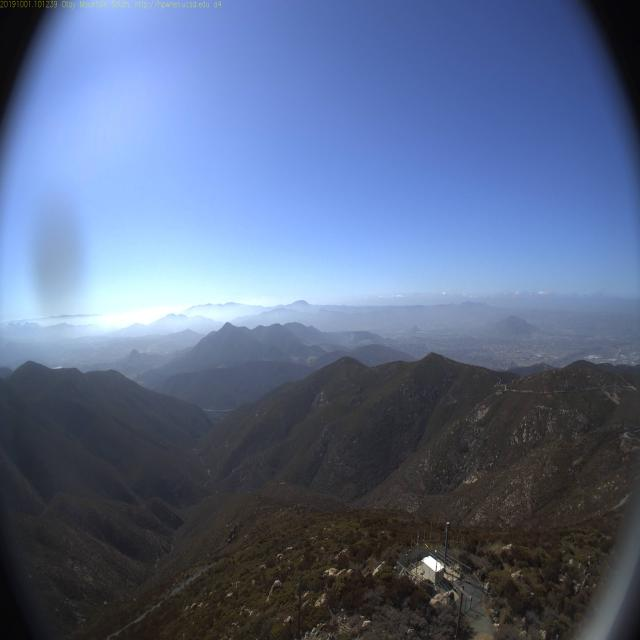smoke: (336, 329, 358, 353)
